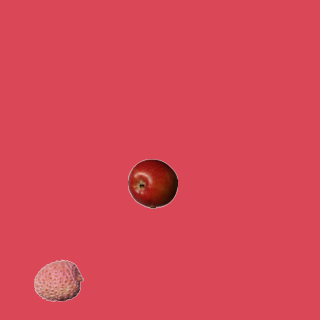Apple Braeburn: (127, 158, 177, 208)
Lychee: (33, 255, 83, 305)
